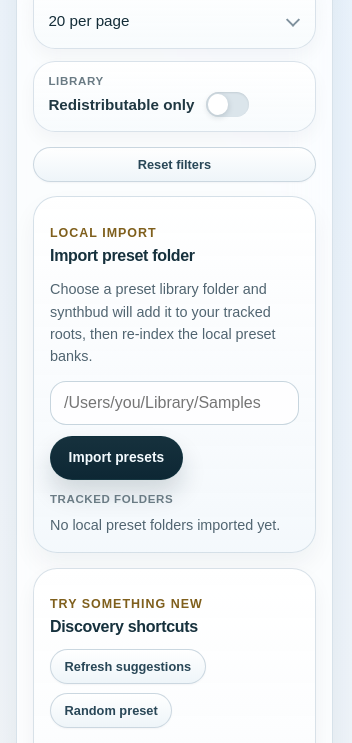
Test case: PresetsPage › imports a local preset folder and refreshes local results
(page scrolled)
In the field named "Import preset folder path": (174, 403) [50,381,299,425], type "/Users/kylechan/Presets"
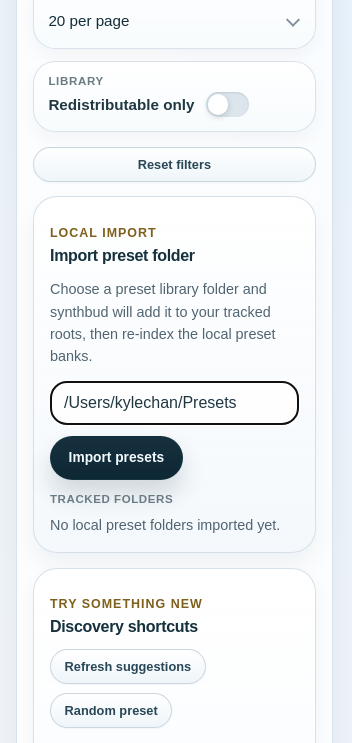
Click the button "Import presets": (116, 458) [50,436,183,480]
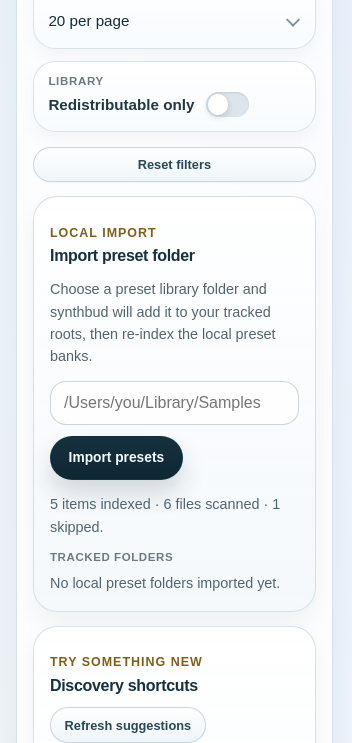
expect the text "5 items indexed · 6 files scanned · 1 skipped." is shown: met, box [50,493,299,538]
